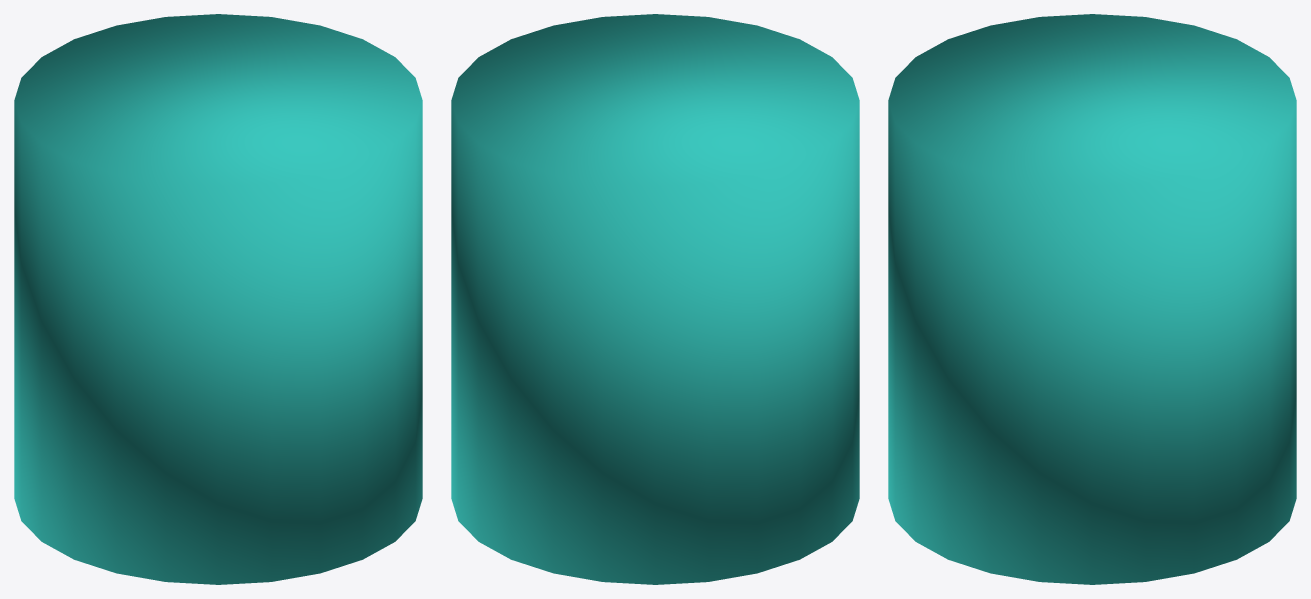
The model's file is cylinder-quality.glb.
The picture shows the model from 3 angles, left to right: view 1: azimuth 30°, elevation 25°; view 2: azimuth 150°, elevation 25°; view 3: azimuth 270°, elevation 25°; orthographic projection.
Visible parts, largest first — view 1: Cylinder; view 2: Cylinder; view 3: Cylinder.
Boxes of the visible parts, left/top/right/bottom form: Cylinder: left=14, top=14, right=422, bottom=584; Cylinder: left=451, top=14, right=859, bottom=584; Cylinder: left=888, top=14, right=1296, bottom=584.
Size of the model in its own units: 1.3 by 1.4 by 1.3.
